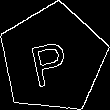P_N: (30, 30, 76, 87)
